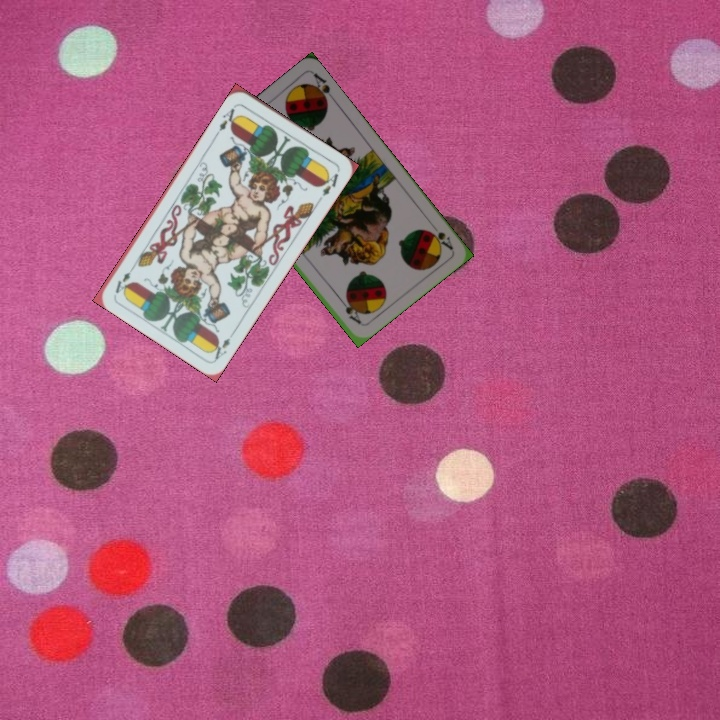EA: (207, 326, 238, 362), (212, 101, 241, 138)
SA: (423, 225, 456, 253)
